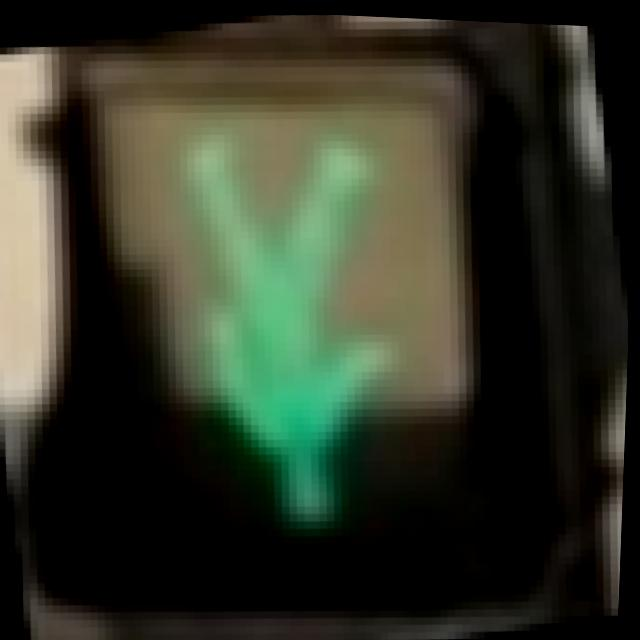green_light: (121, 94, 479, 584)
